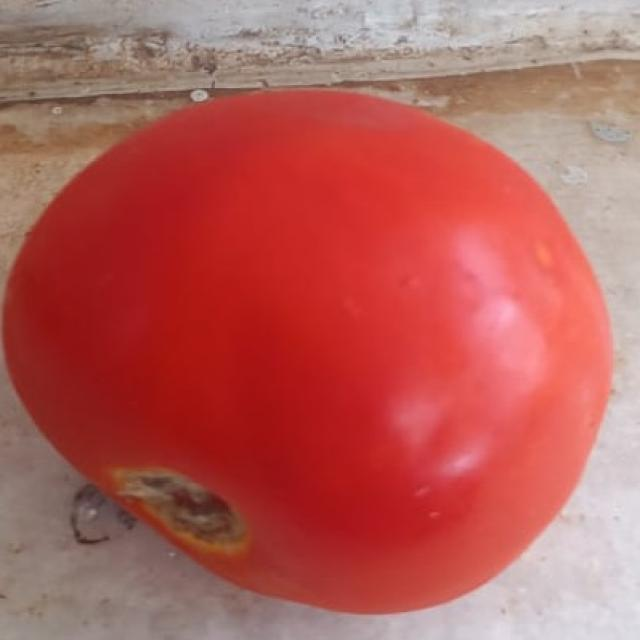ripe tomato: (4, 61, 613, 625)
